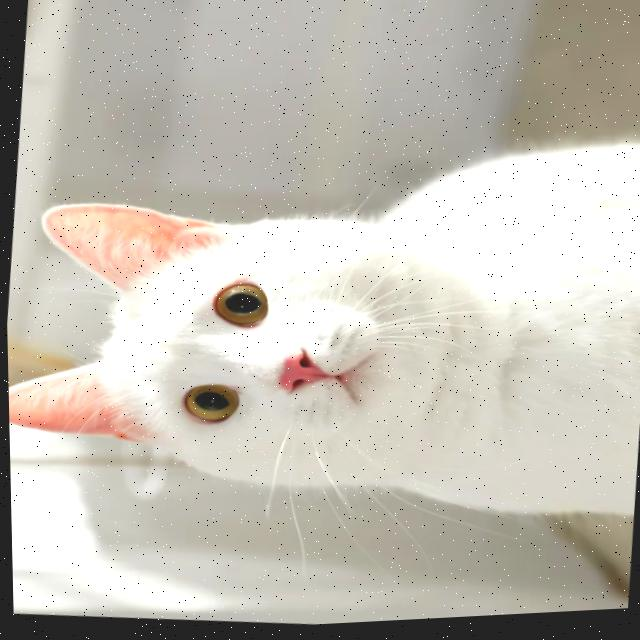Khao Manee: (2, 89, 640, 556)
